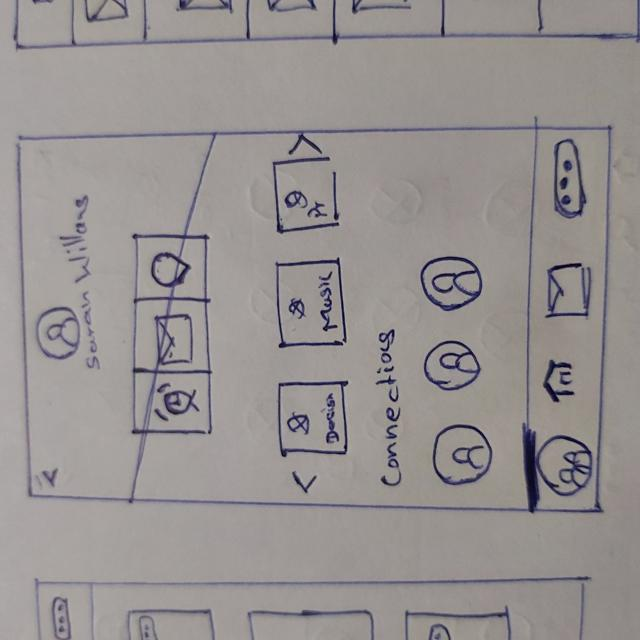BackButton: (35, 463, 70, 490)
BottomNavBar: (526, 126, 610, 519)
BottomNavItems: (537, 131, 604, 240), (529, 246, 604, 341), (526, 427, 598, 513), (528, 344, 602, 426)
CardView: (274, 259, 347, 349), (277, 379, 351, 459), (271, 159, 344, 235)
HorizontalListView: (269, 131, 353, 503), (410, 249, 497, 507)
Icon: (538, 432, 592, 496), (546, 263, 592, 320), (554, 141, 587, 219), (153, 312, 197, 364), (152, 382, 204, 424), (540, 360, 578, 404), (151, 252, 194, 286), (285, 133, 326, 155), (290, 466, 321, 493)
Layout: (132, 233, 212, 437)
ListView: (268, 132, 354, 504), (415, 251, 498, 509)
MainLayout: (15, 128, 615, 520)
RoundedImage: (434, 422, 492, 488), (420, 256, 484, 311), (422, 338, 482, 392), (34, 307, 81, 362), (284, 190, 308, 213), (288, 414, 311, 436), (286, 299, 306, 319)
TextView: (69, 194, 104, 373), (376, 330, 406, 490), (317, 270, 340, 334), (325, 391, 340, 445), (309, 189, 329, 222)
